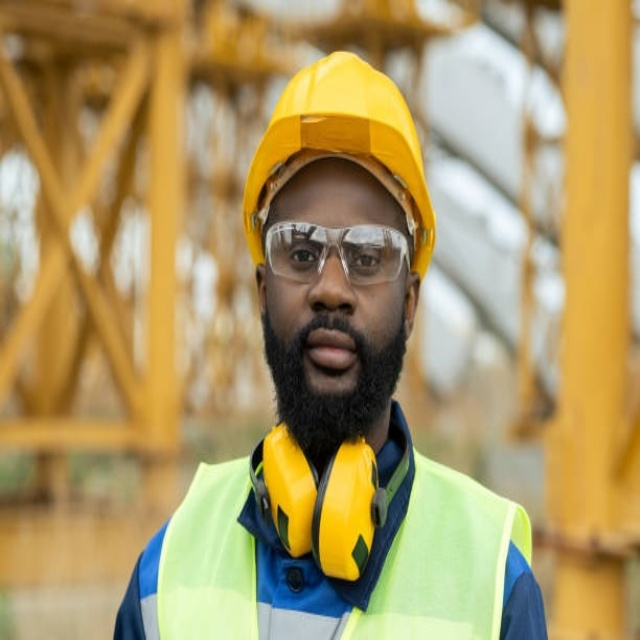Gafas: (261, 220, 410, 285)
Sin_mascara: (294, 314, 367, 389)
